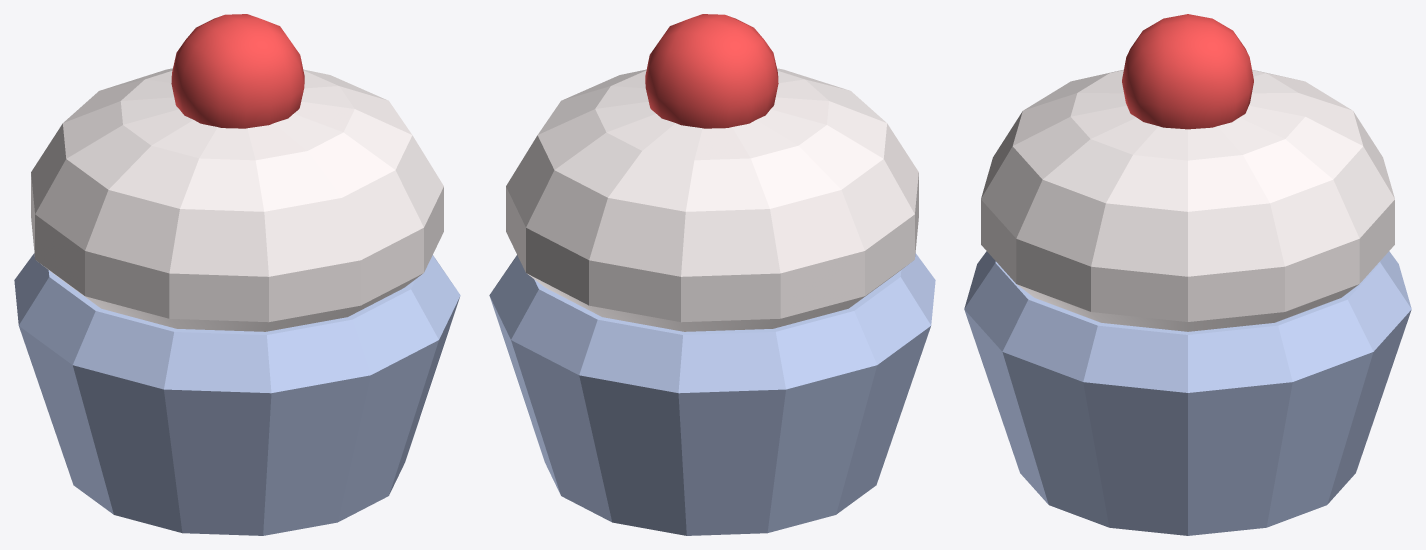
The model's file is Cupcake_blue.fbx.
3 renders of one model, left to right at view 1: azimuth 30°, elevation 25°; view 2: azimuth 150°, elevation 25°; view 3: azimuth 270°, elevation 25°, orthographic.
Visible parts, largest first — view 1: polySurface741; view 2: polySurface741; view 3: polySurface741.
Boxes of the visible parts, left/top/right/bottom form: polySurface741: left=14, top=14, right=460, bottom=535; polySurface741: left=489, top=14, right=935, bottom=535; polySurface741: left=964, top=14, right=1411, bottom=535.
Bounding box in the file's own units: 10.45 × 11.53 × 10.53.
